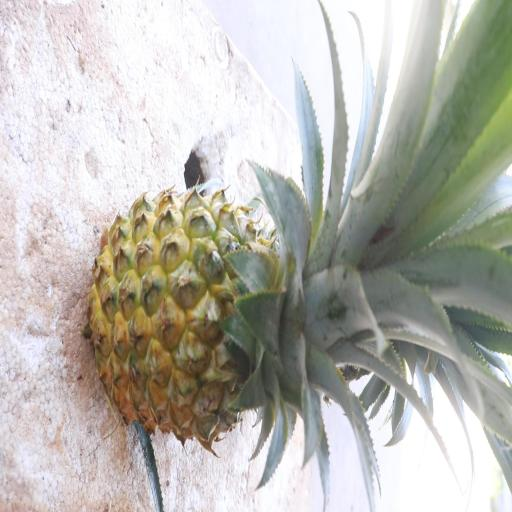Pineapple - v8 v1: (82, 178, 396, 454)
